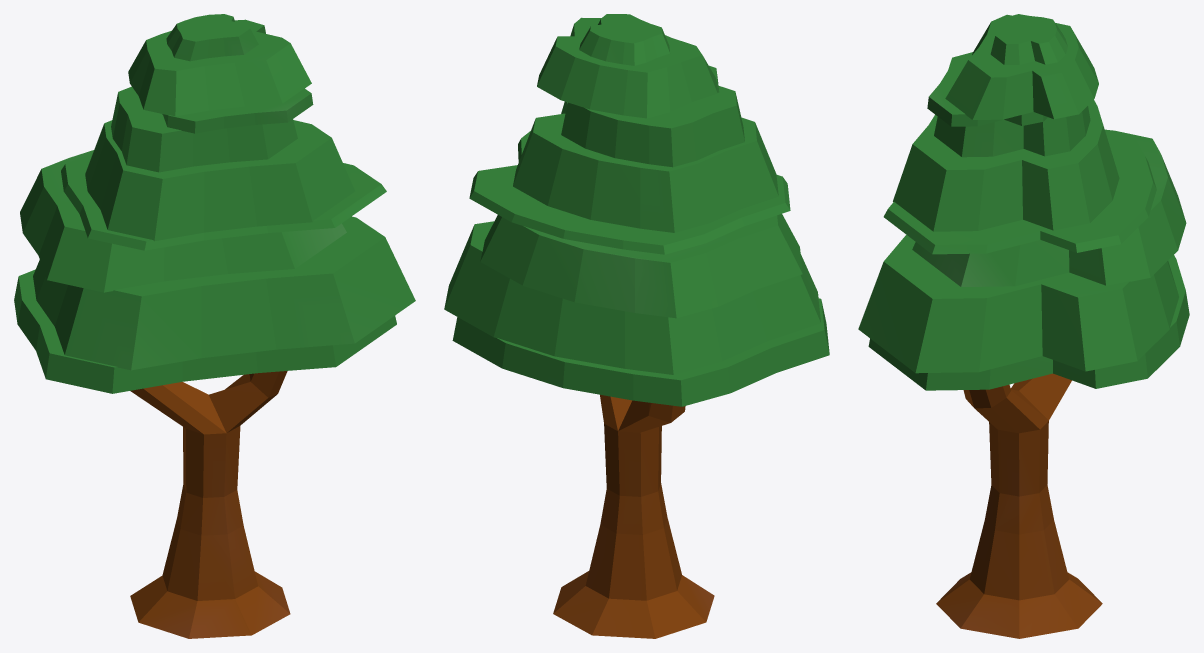
The model's file is tree_01_v3.gltf.
3 renders of one model, left to right at view 1: azimuth 30°, elevation 25°; view 2: azimuth 150°, elevation 25°; view 3: azimuth 270°, elevation 25°, orthographic.
Visible parts, largest first — view 1: Tree_01; view 2: Tree_01; view 3: Tree_01.
Part boxes in pixels (bbox=[...]): Tree_01: bbox=[14, 14, 415, 638]; Tree_01: bbox=[444, 14, 829, 638]; Tree_01: bbox=[858, 14, 1189, 638].
Bounding box in the file's own units: 2.25 × 3.7 × 1.93.
